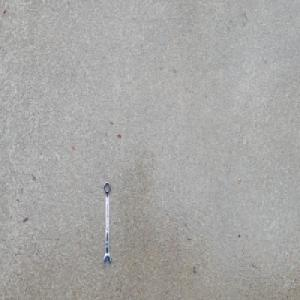Wrench: (102, 179, 112, 268)
